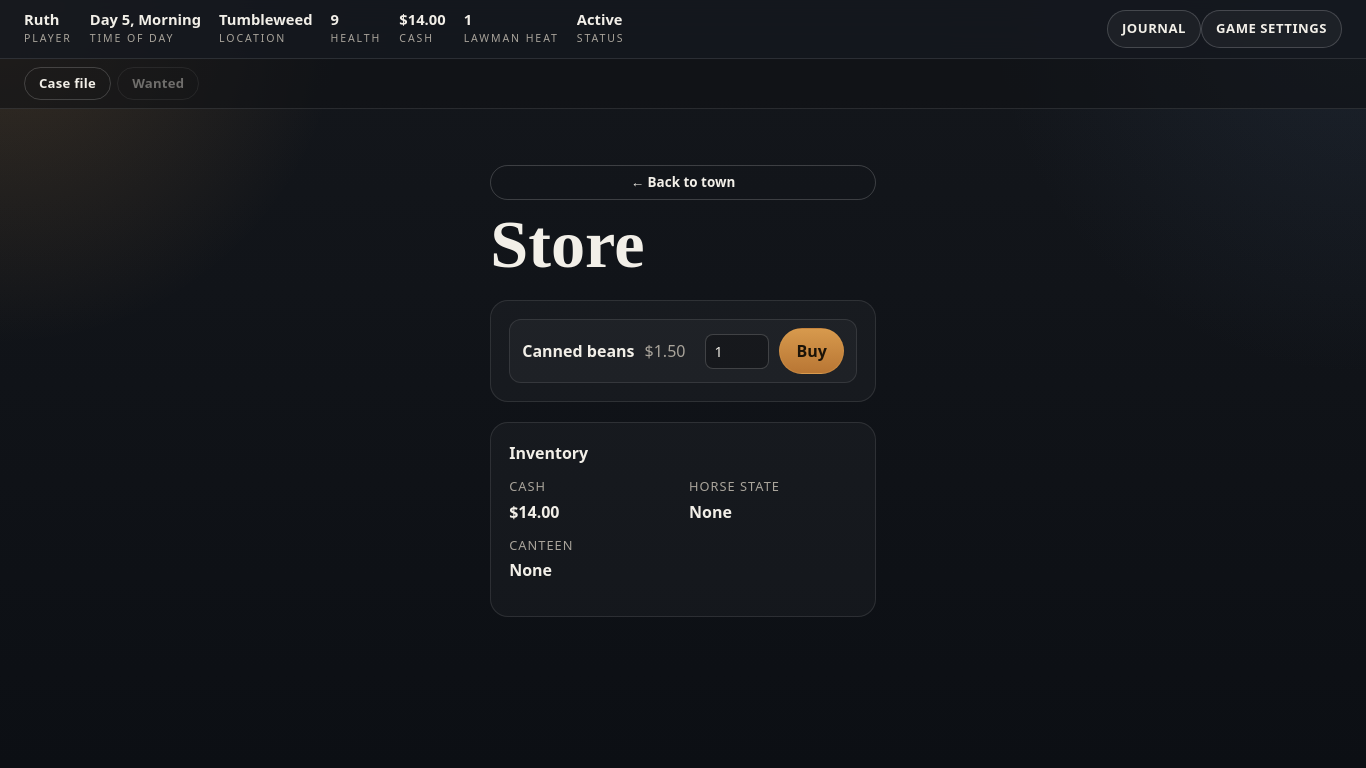
Test: Store purchase feedback › rejects a blank quantity before sending a purchase request
Clear the number field named "Quantity for Canned beans": (737, 351) [705,334,769,369]
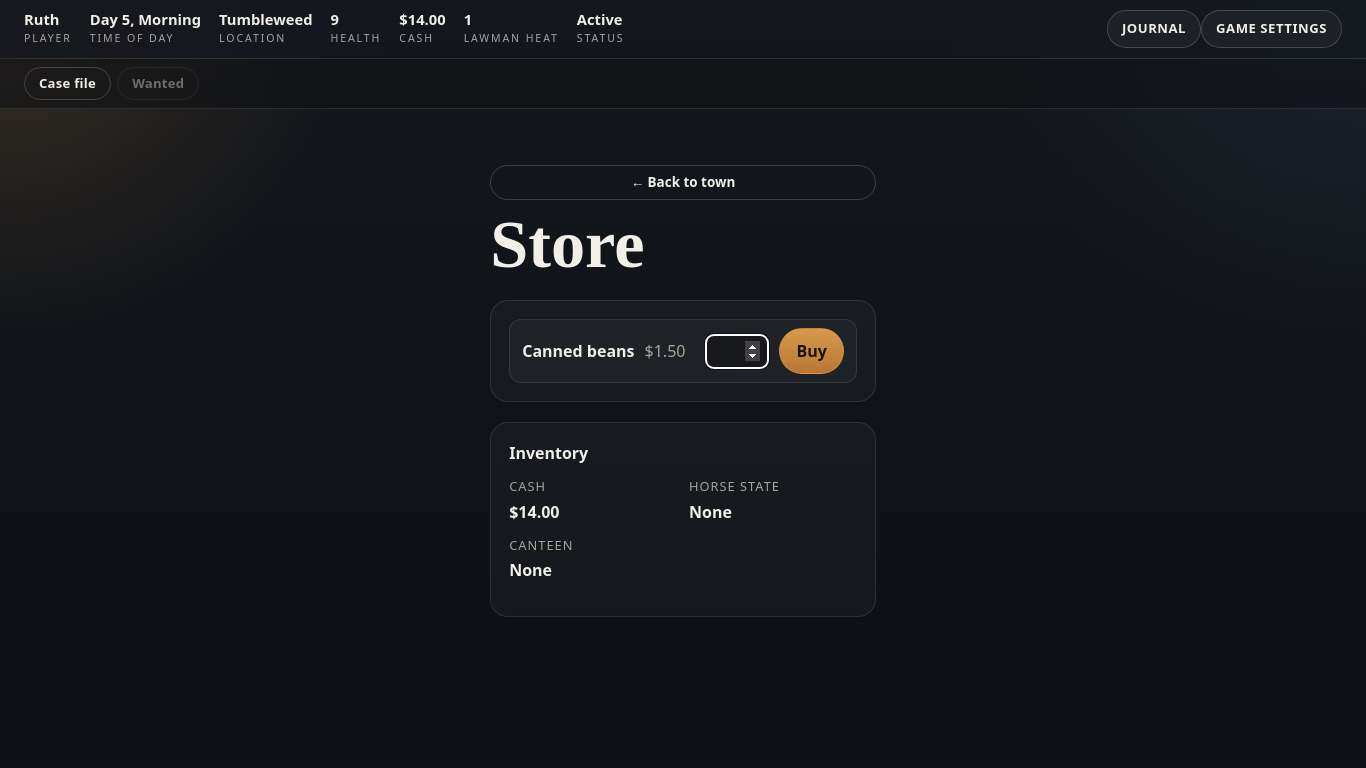
Click the button "Buy": (812, 351) [779,328,844,374]
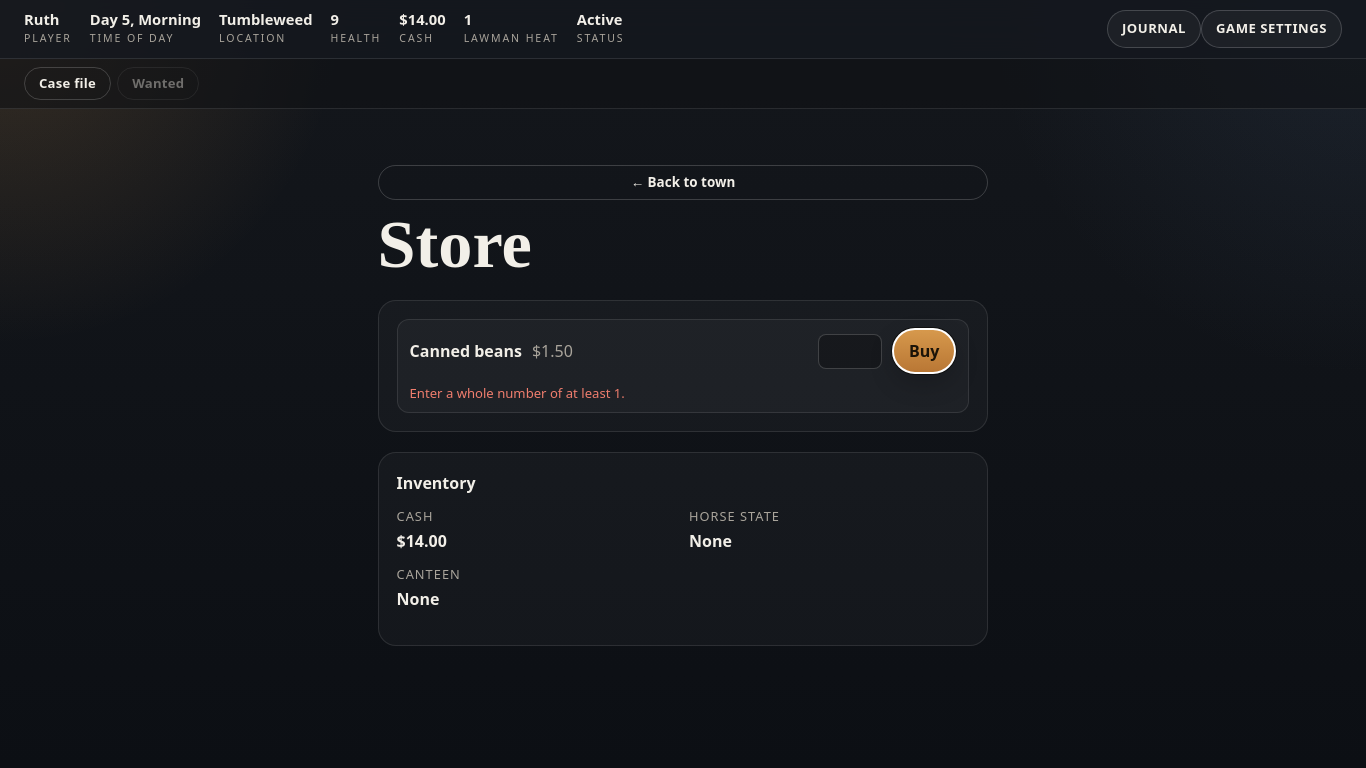
Check: the text "Enter a whole number of at least 1." is shown, box [410,384,625,402]
